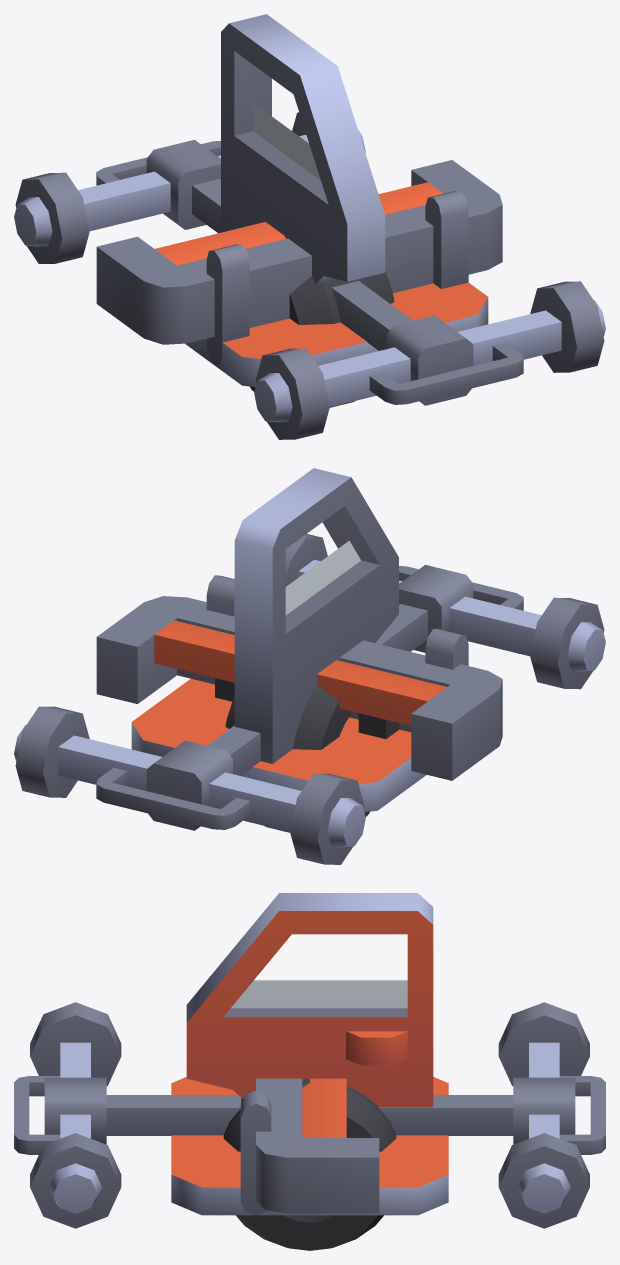
Rendered from cc0-debris.glb.
3 renders of one model, top to bottom at view 1: azimuth 30°, elevation 25°; view 2: azimuth 150°, elevation 25°; view 3: azimuth 270°, elevation 25°, orthographic. The views are drawn at different scales.
Parts seen in each view (by area): view 1: debris-drivetrain, debris-bumper, debris-door, debris-plate-a, debris-spoiler-a, debris-door-window, debris-tire; view 2: debris-drivetrain, debris-door, debris-bumper, debris-plate-a, debris-spoiler-a, debris-tire, debris-door-window; view 3: debris-drivetrain, debris-door, debris-bumper, debris-plate-a, debris-tire, debris-door-window, debris-spoiler-a.
Part boxes in pixels (x1=…): debris-drivetrain: x1=14, y1=112, x2=605, y2=439; debris-bumper: x1=96, y1=160, x2=502, y2=365; debris-door: x1=221, y1=14, x2=385, y2=284; debris-plate-a: x1=185, y1=282, x2=488, y2=386; debris-spoiler-a: x1=155, y1=182, x2=443, y2=265; debris-door-window: x1=235, y1=71, x2=321, y2=184; debris-tire: x1=250, y1=271, x2=394, y2=407; debris-drivetrain: x1=14, y1=534, x2=605, y2=864; debris-door: x1=234, y1=468, x2=398, y2=763; debris-bumper: x1=96, y1=575, x2=502, y2=780; debris-plate-a: x1=131, y1=678, x2=426, y2=812; debris-spoiler-a: x1=154, y1=621, x2=447, y2=738; debris-tire: x1=225, y1=685, x2=369, y2=832; debris-door-window: x1=285, y1=540, x2=360, y2=632; debris-drivetrain: x1=14, y1=1002, x2=605, y2=1228; debris-door: x1=186, y1=893, x2=433, y2=1107; debris-bumper: x1=240, y1=1078, x2=379, y2=1215; debris-plate-a: x1=171, y1=1077, x2=448, y2=1215; debris-tire: x1=223, y1=1078, x2=396, y2=1250; debris-door-window: x1=224, y1=980, x2=407, y2=1017; debris-spoiler-a: x1=302, y1=1078, x2=346, y2=1137.
Bounding box in the file's own units: 1.3 × 1.2 × 1.92.
Materials: 1 (1 with a texture image).
